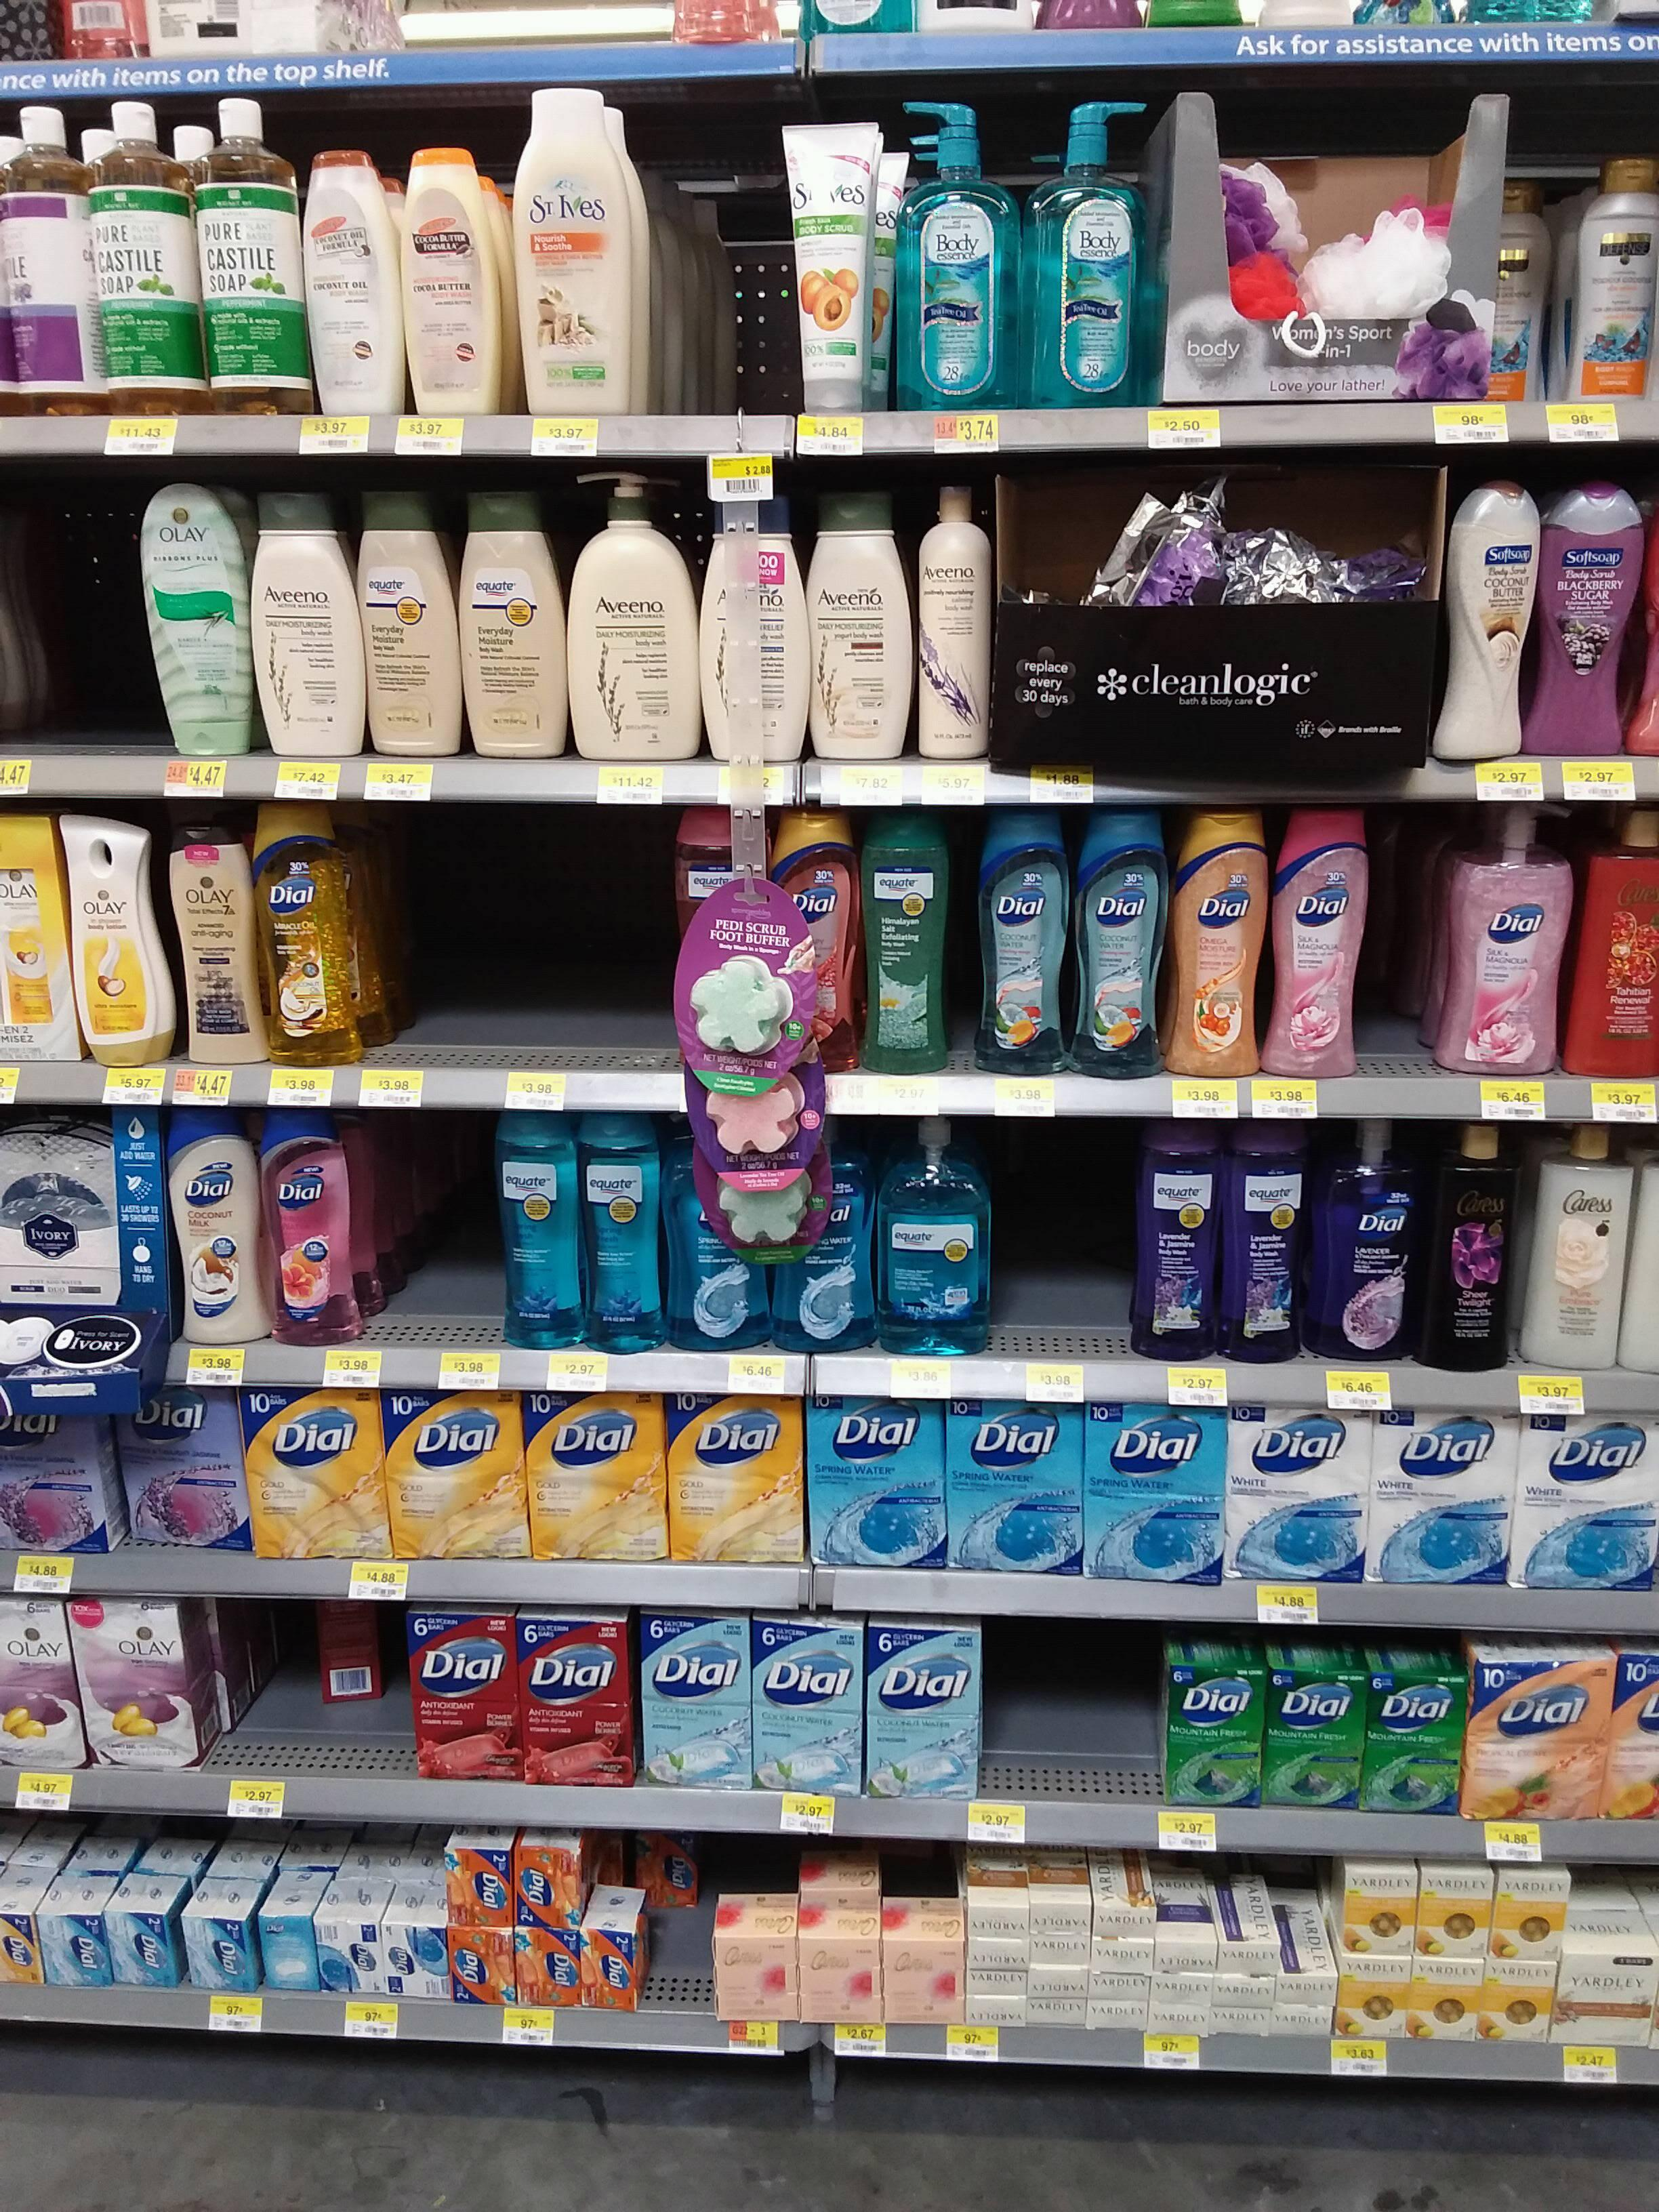empty: (997, 1141, 1124, 1350), (371, 806, 472, 1064), (472, 806, 573, 1064), (570, 806, 669, 1064), (375, 1148, 484, 1348), (1363, 846, 1445, 1082), (1066, 1627, 1154, 1804), (979, 1632, 1065, 1810), (218, 1608, 303, 1785), (310, 1641, 403, 1787), (636, 1864, 711, 2017)
